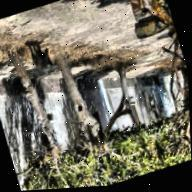boar: (19, 26, 63, 79)
